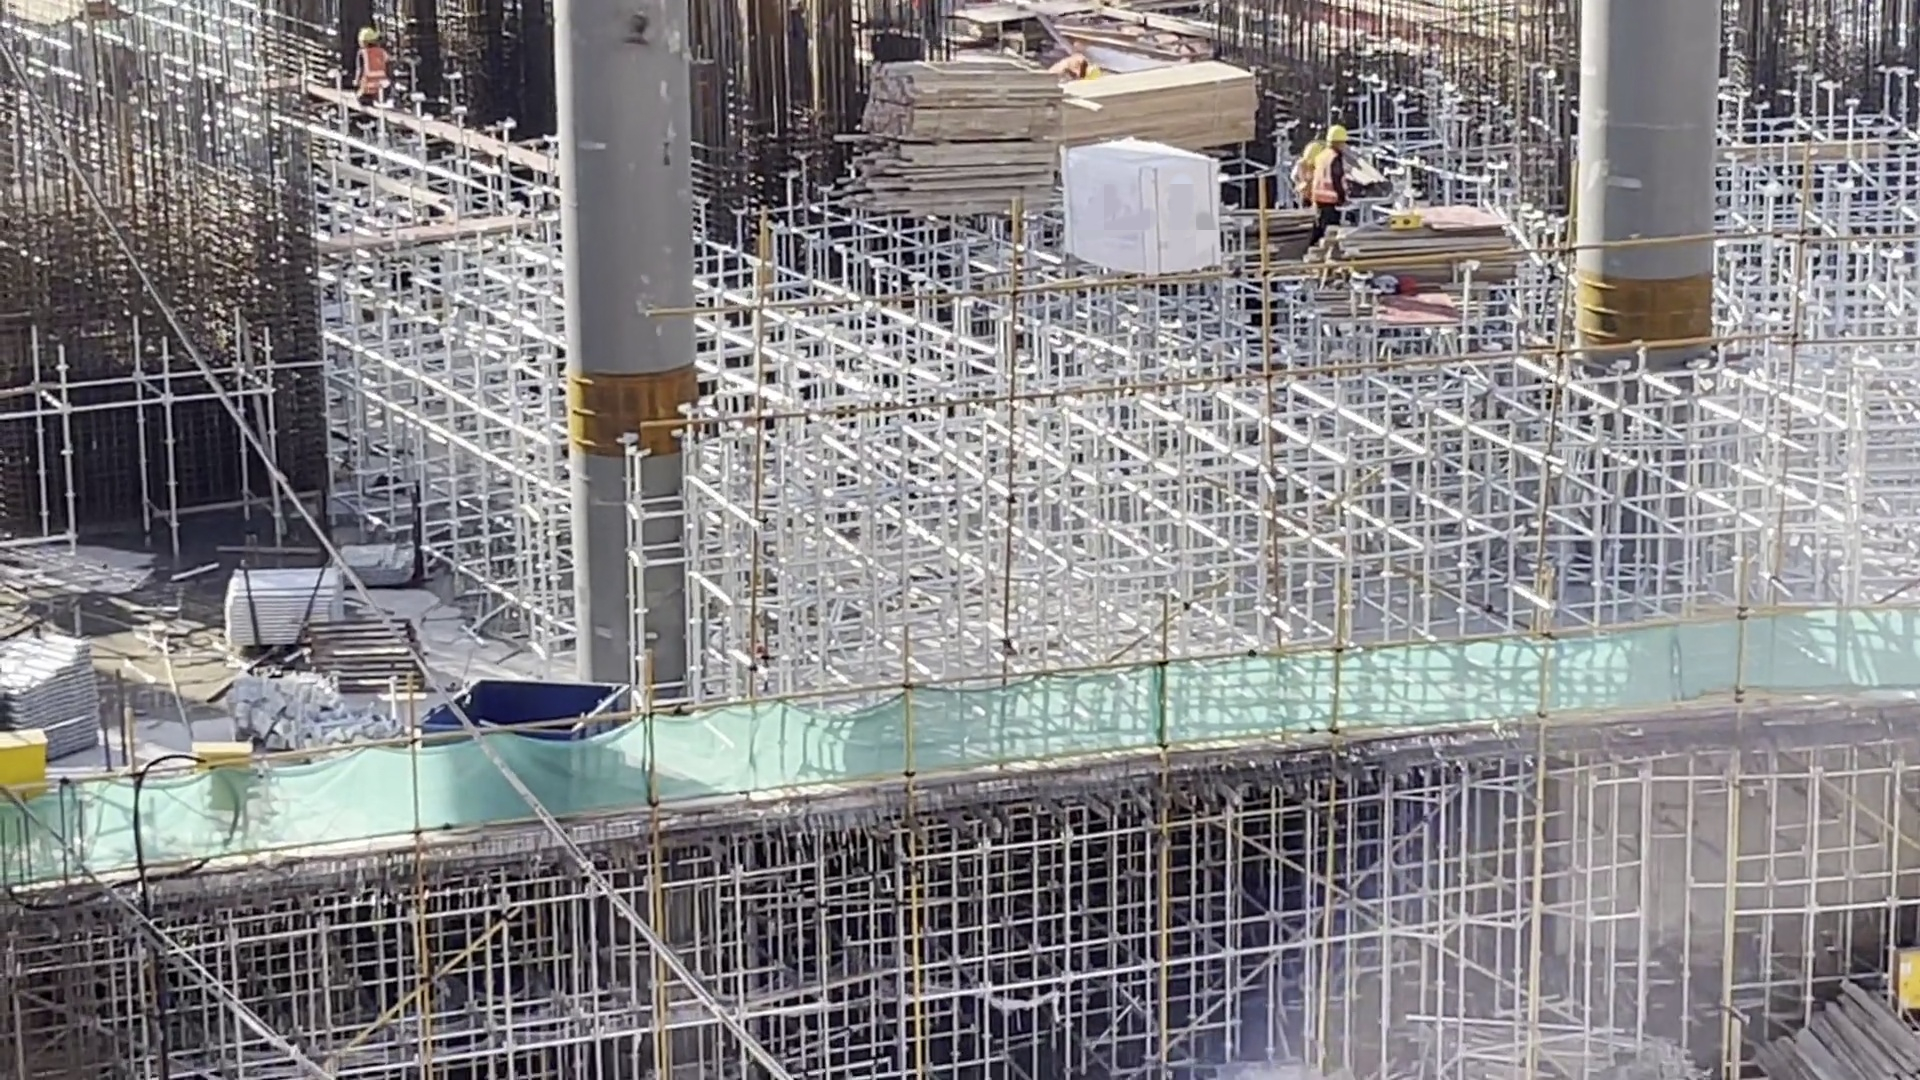board: (1336, 194, 1571, 312)
ebox: (3, 719, 84, 849), (214, 747, 271, 807), (1889, 951, 1920, 1005)
helmet: (1333, 118, 1352, 144), (1303, 144, 1325, 164), (1085, 59, 1105, 79), (362, 27, 381, 45)
hopper: (419, 669, 654, 787)
person: (1299, 123, 1359, 263), (351, 25, 393, 95), (1049, 55, 1111, 80)
scaffold: (218, 562, 363, 666), (33, 604, 106, 772)
vest: (354, 52, 384, 87), (1050, 53, 1080, 83), (1296, 157, 1309, 201)
wood: (864, 62, 1039, 212), (1061, 66, 1264, 162), (1791, 987, 1920, 1076)
